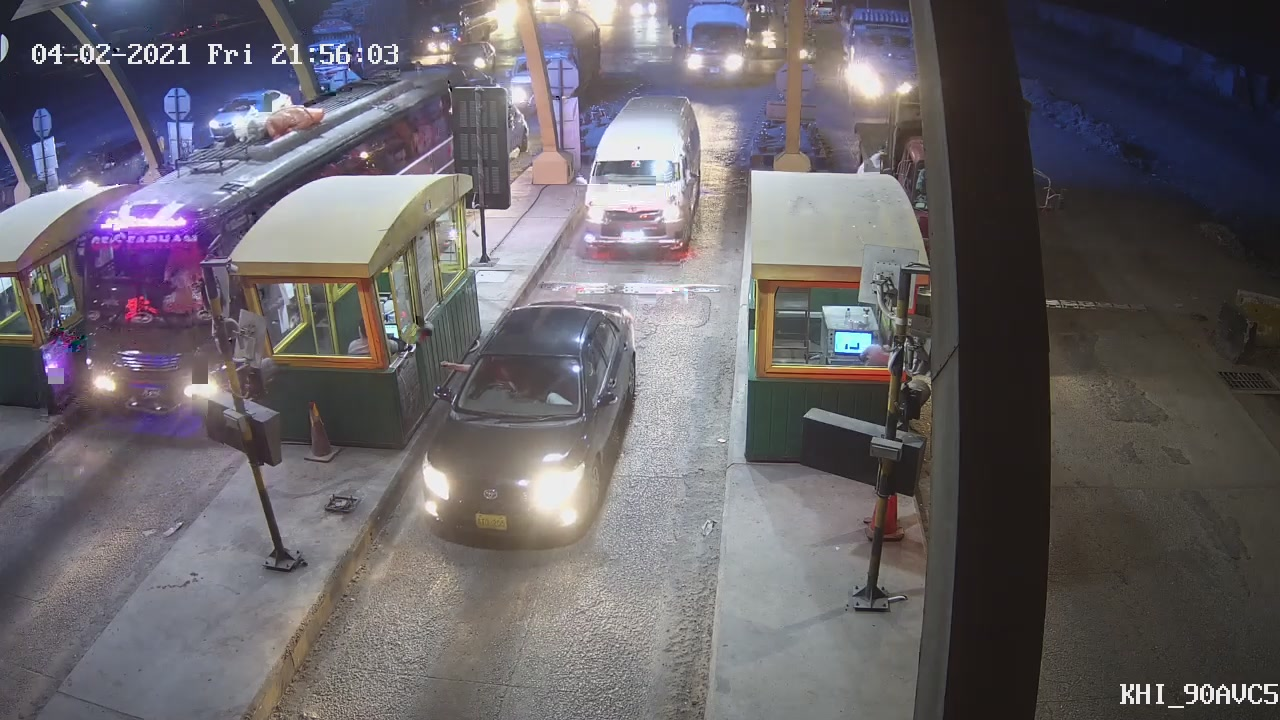F1: (412, 295, 646, 546)
F3: (575, 89, 701, 257)
